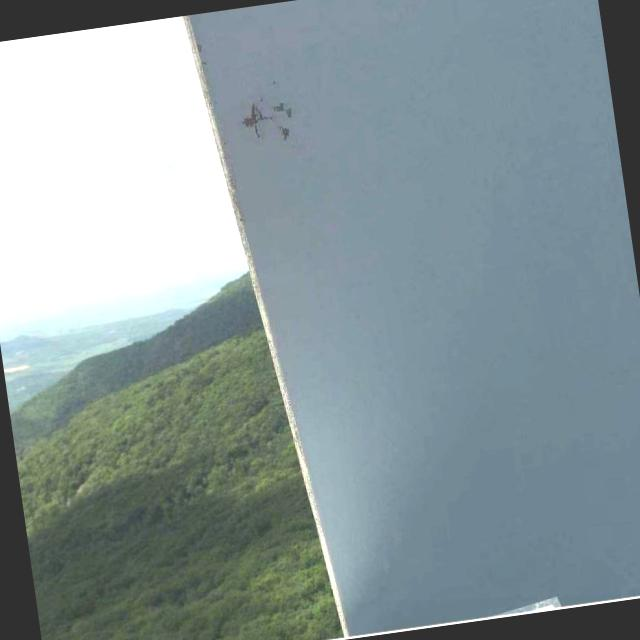surface_peeling: (237, 92, 302, 146)
